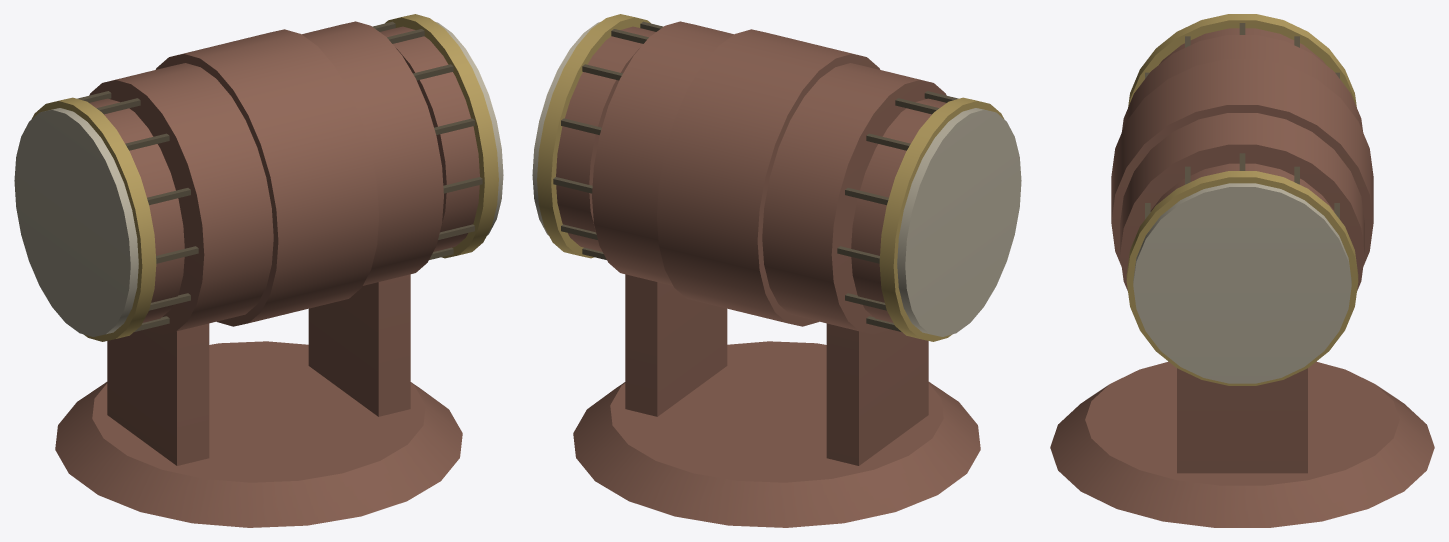
File: skor.glb
3 renders of one model, left to right at view 1: azimuth 30°, elevation 25°; view 2: azimuth 150°, elevation 25°; view 3: azimuth 270°, elevation 25°, orthographic. The views are drawn at different scales.
Size of the model in its own units: 1.85 by 1.85 by 1.76.
